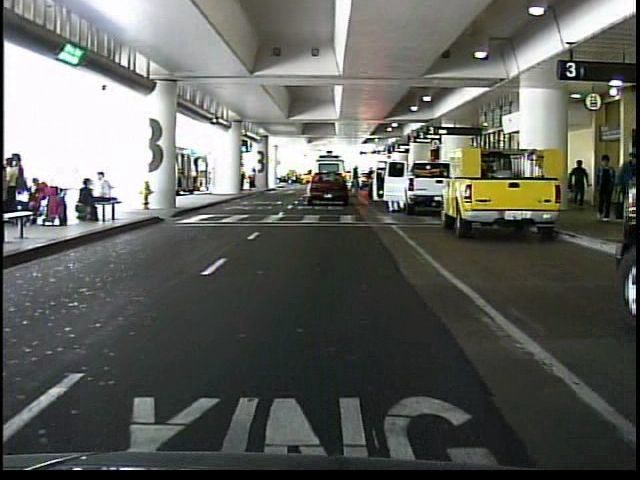person: (592, 151, 615, 220), (565, 156, 591, 213), (248, 167, 260, 191)
